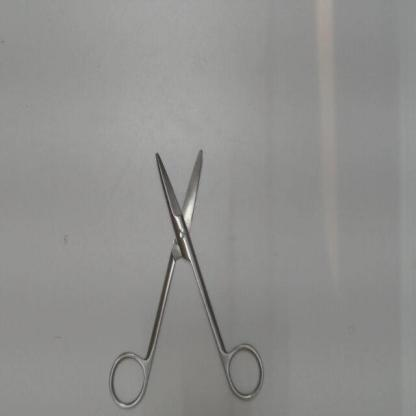Curved Mayo Scissors: (106, 136, 272, 413)
